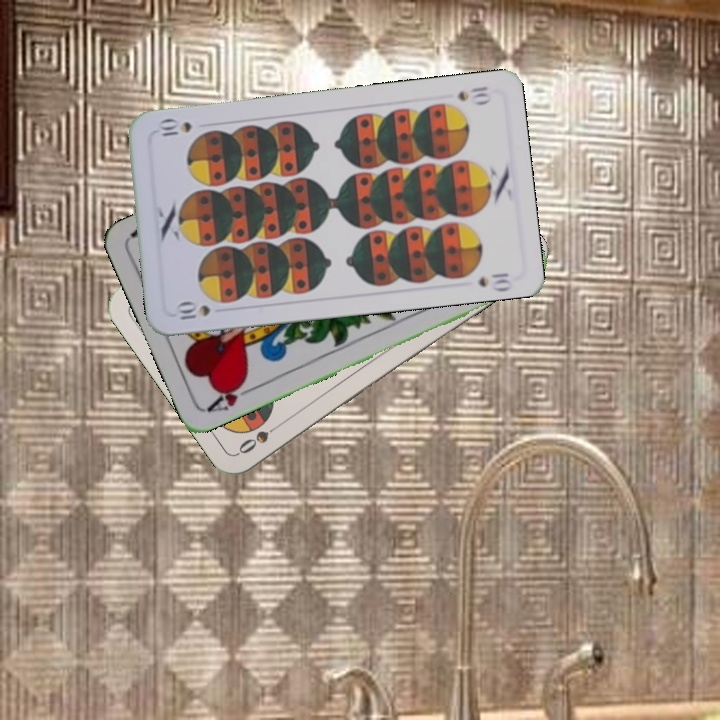HA: (203, 375, 259, 415)
S10: (172, 298, 213, 323), (454, 82, 494, 106)
SO: (234, 417, 286, 457)
